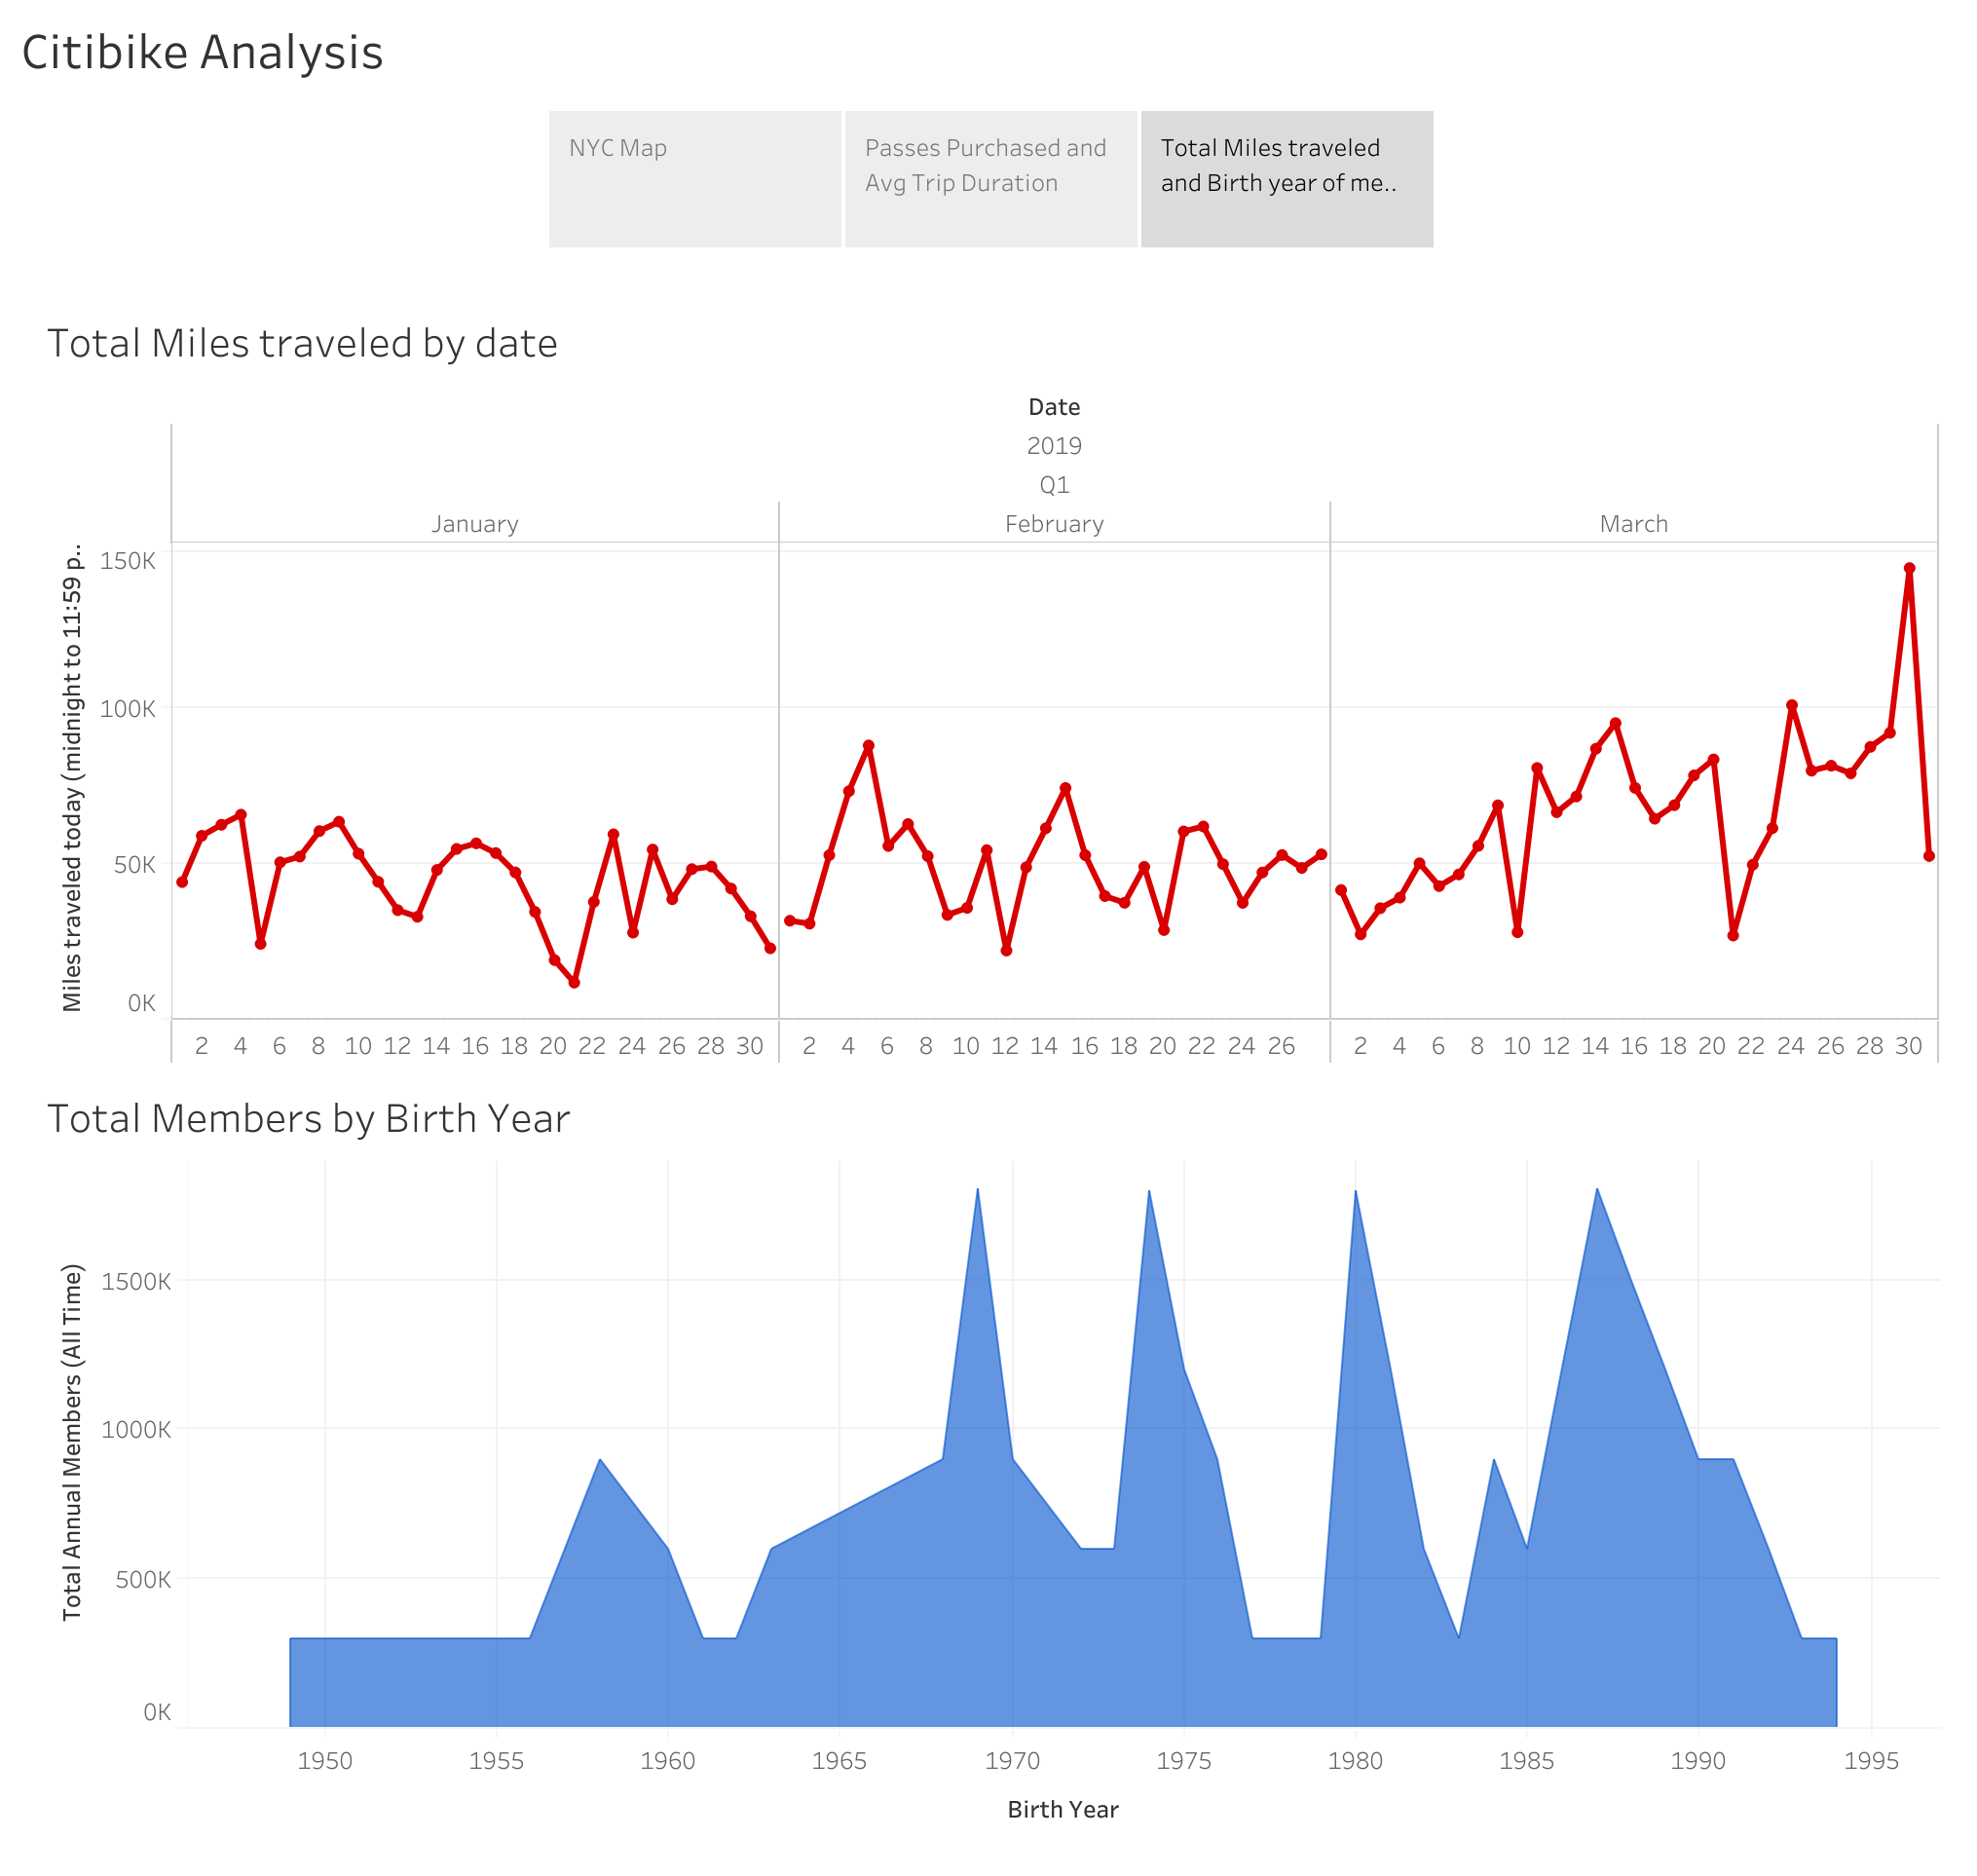

The page's visual inventory and layout, read from the dashboard file:
{"tool":"tableau","page":{"name":"Dashboard 2","canvas":[1000,1000],"units":"permille","ordinal":1},"visuals":[{"type":"worksheet","box":[0,0,1000,1000]},{"type":"worksheet","title":"Total Miles traveled by date","mark":"Automatic","rows":["59 pm)"],"cols":["Date","Date","Date","Date"],"box":[7.1,11.1,985.8,488.9]},{"type":"worksheet","title":"Total Members by Birth Year","mark":"Area","rows":["Total Annual Members (All Time)"],"cols":["birth year"],"box":[7.1,500,985.8,488.9]}]}

Visuals, with their boxes on the dashboard's canvas, which has no fixed pixel size, in thousandths of its width and height (x1, y1, x2, y2). These are canvas units, not pixel positions in the 1977x1876 screenshot, which may show the page scaled, cropped or inside an application window:
worksheet: <bbox>0, 0, 1000, 1000</bbox>
"Total Miles traveled by date" worksheet: <bbox>7, 11, 993, 500</bbox>
"Total Members by Birth Year" worksheet (Area marks): <bbox>7, 500, 993, 989</bbox>
